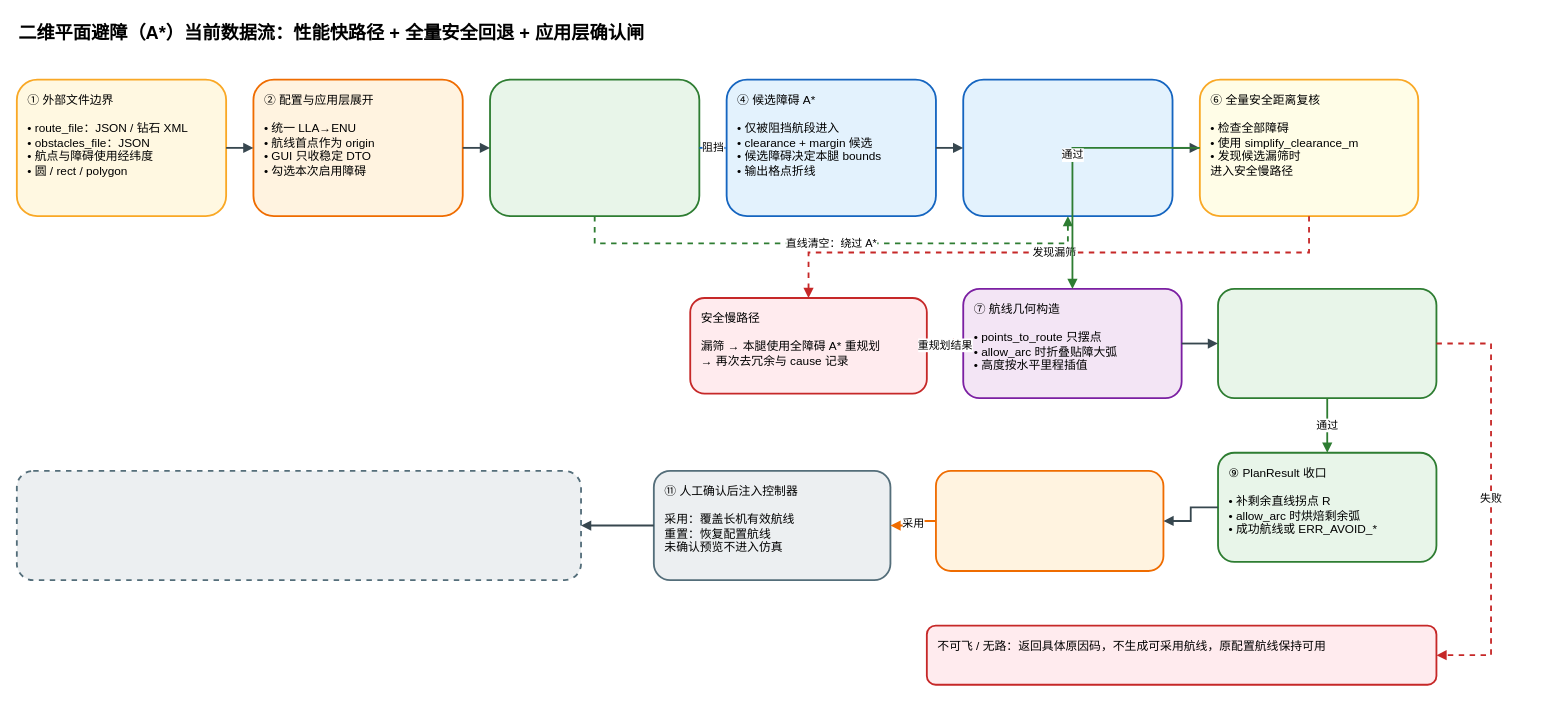
The diagram is 1561 pixels wide and 701 high, and some of its shapes have lost their labels. The centre of each missing label's shape, as x and y in pixels:
③ 逐腿直线快判 • margin=0 候选集 • 线段包围盒预筛 • 全程无阻挡：保留端点 • 完全跳过 A*: the point at 594,147
⑤ 去冗余 + cause • 视线段再次预筛 • simplify_clearance_m • 记录逼出拐点的障碍 • 为贴障弧准备来源: the point at 1067,147
⑧ 后置可飞性 • 全量真实障碍直线复核 • 转角 / 腿长 / 固定 R 弧 • 显式贴障弧采样: the point at 1327,343
⑩ gui_application PlanResult → 只读 PlannedRoute 预览 / JSON或XML输出 / 采用: the point at 1049,520
下游链路不改 LeaderRoute 选段 → 位置跟踪 → 三自由度模型 僚机继续编队跟随长机；GUI 显示当前航线与被封锁原航线: the point at 298,525
